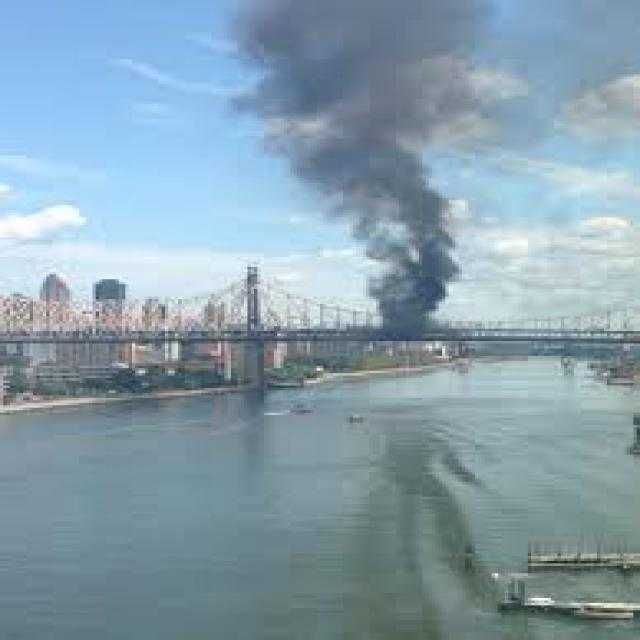smoke: (297, 32, 482, 321)
